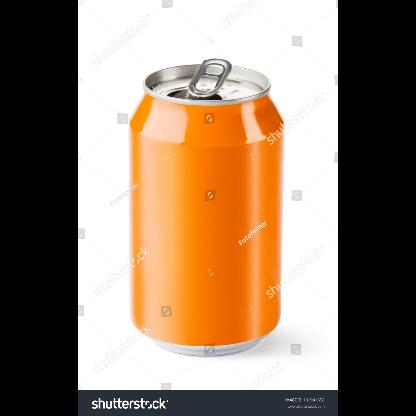Lid_Open: (161, 54, 237, 114)
Tin_Can: (128, 55, 288, 361)
